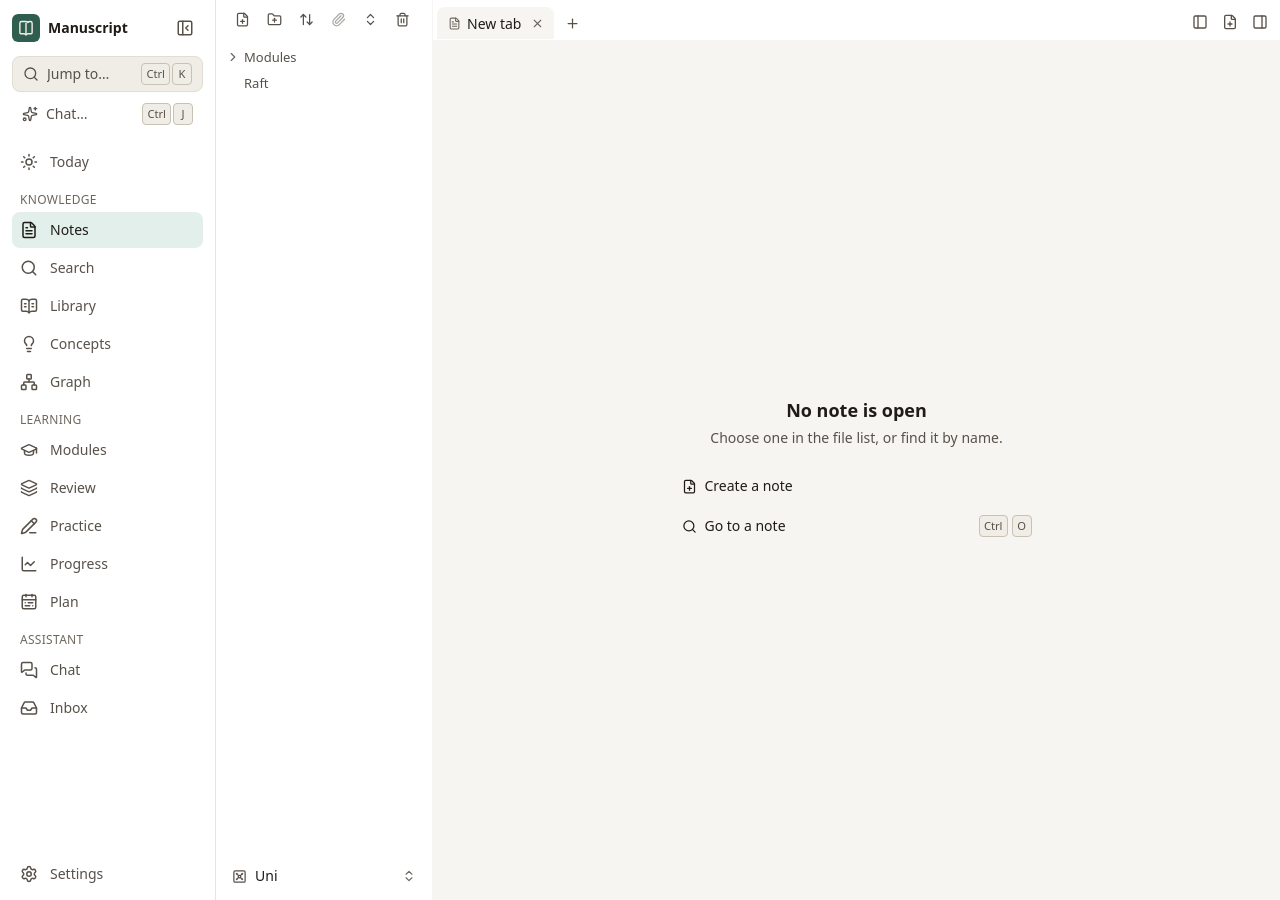
Test: Notes page › expands every folder and collapses them again from one button
Step 1. Click the button named "Expand all" → click(370, 20), box 356,6 -> 384,34
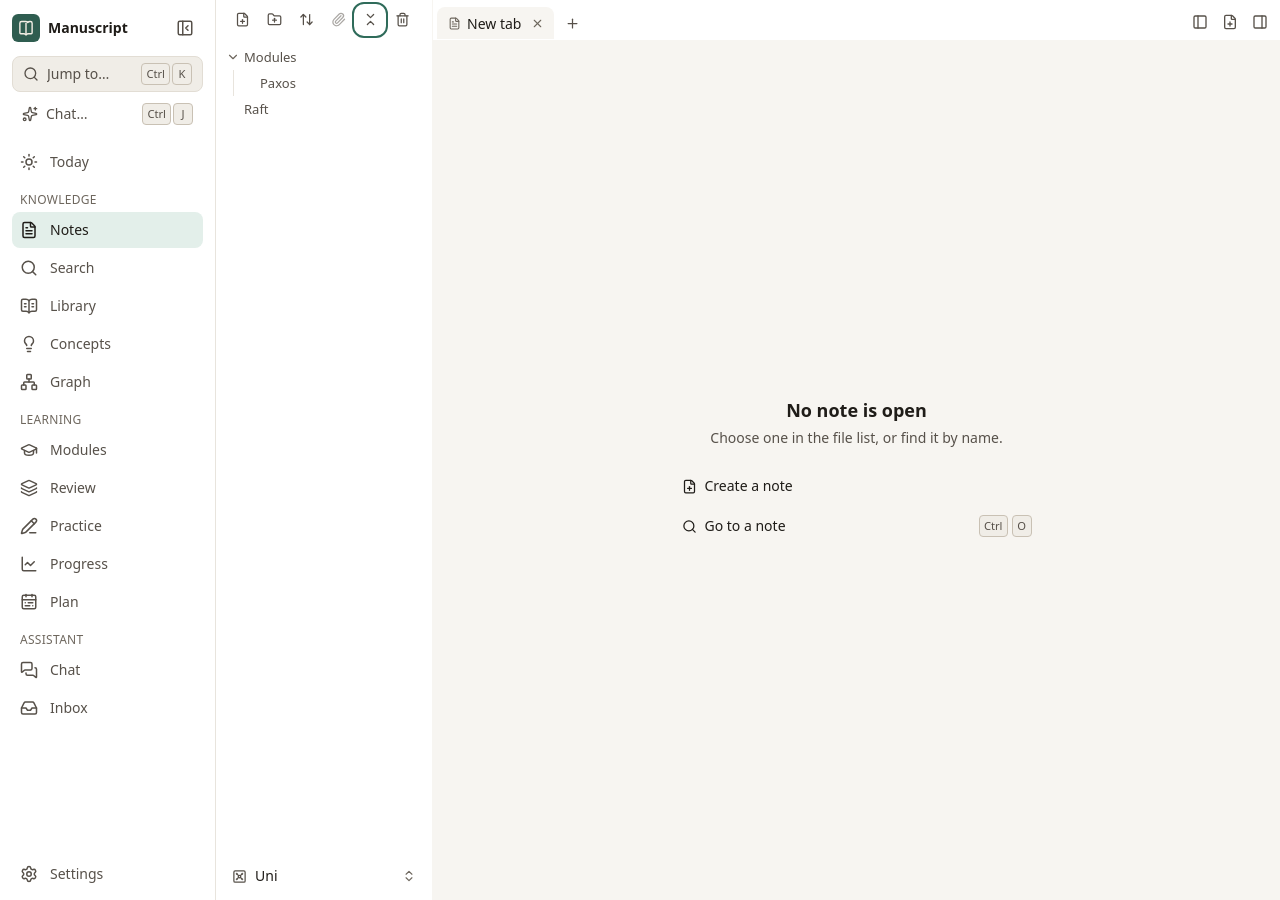
Result: the list item "Paxos" is shown at 260,74 -> 296,92
Step 2. Click the button named "Collapse all" → click(370, 20), box 356,6 -> 384,34
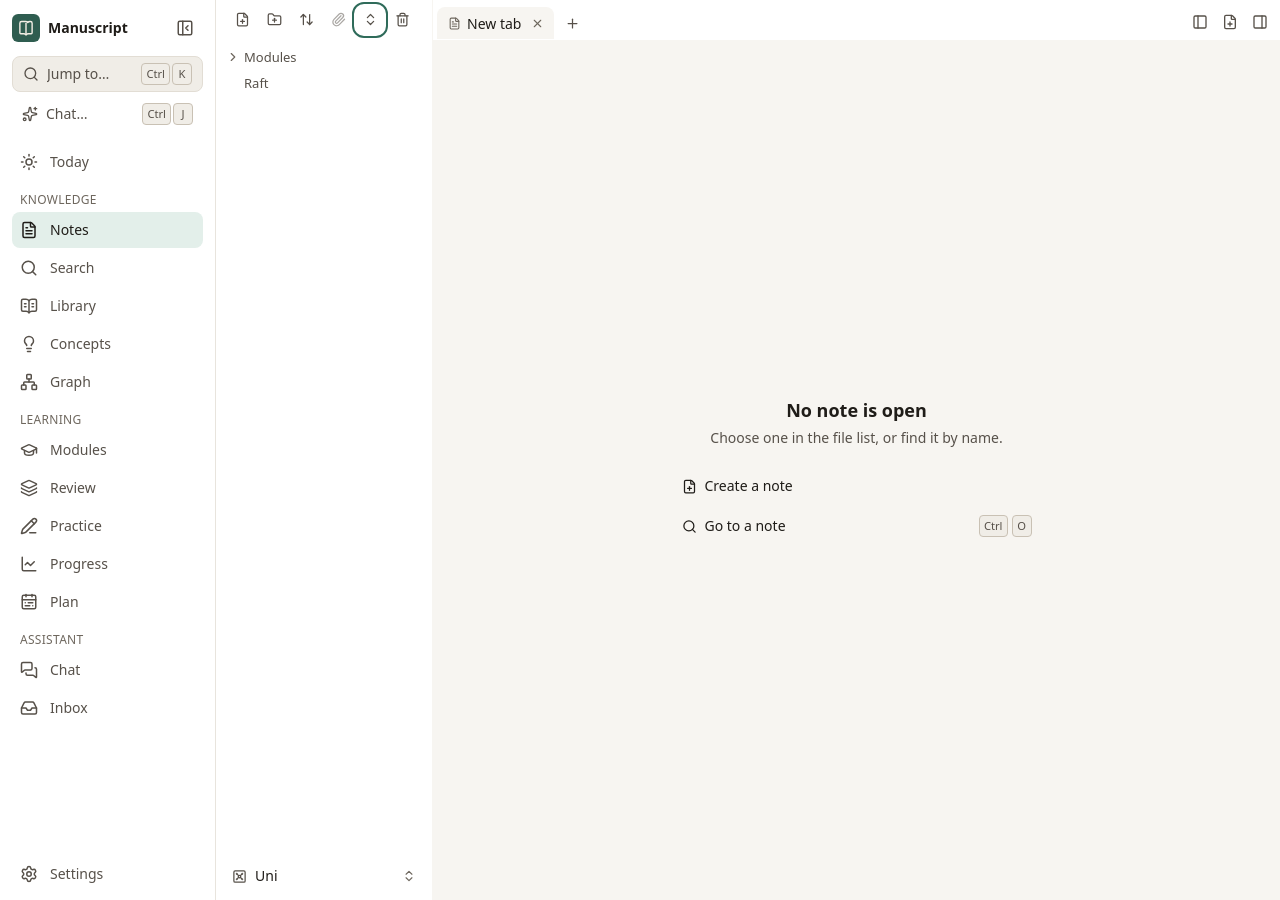
Result: the text "Paxos" is gone
Result: the button named "Expand all" is shown at 356,6 -> 384,34
